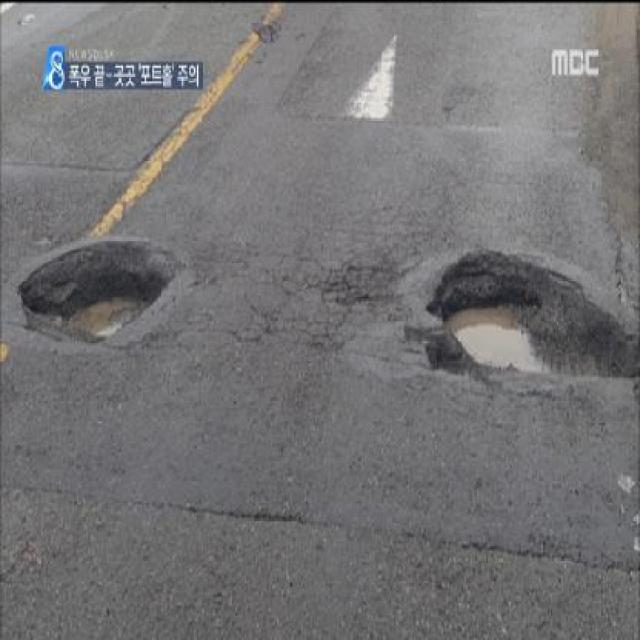Pothole: (424, 278, 556, 388), (35, 260, 177, 348)
